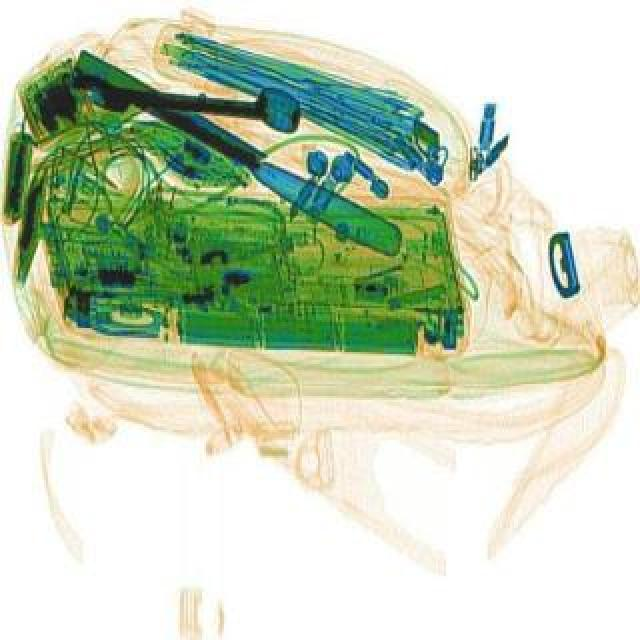knife: (64, 46, 412, 268)
scissors: (68, 74, 300, 138)
